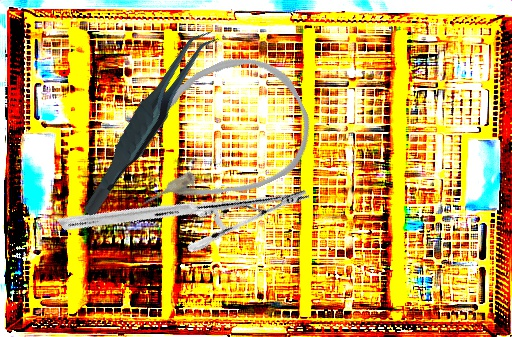Cannula: (104, 37, 327, 235)
Needle Holder: (56, 90, 312, 329)
Tissue Forceps: (49, 24, 248, 218)
